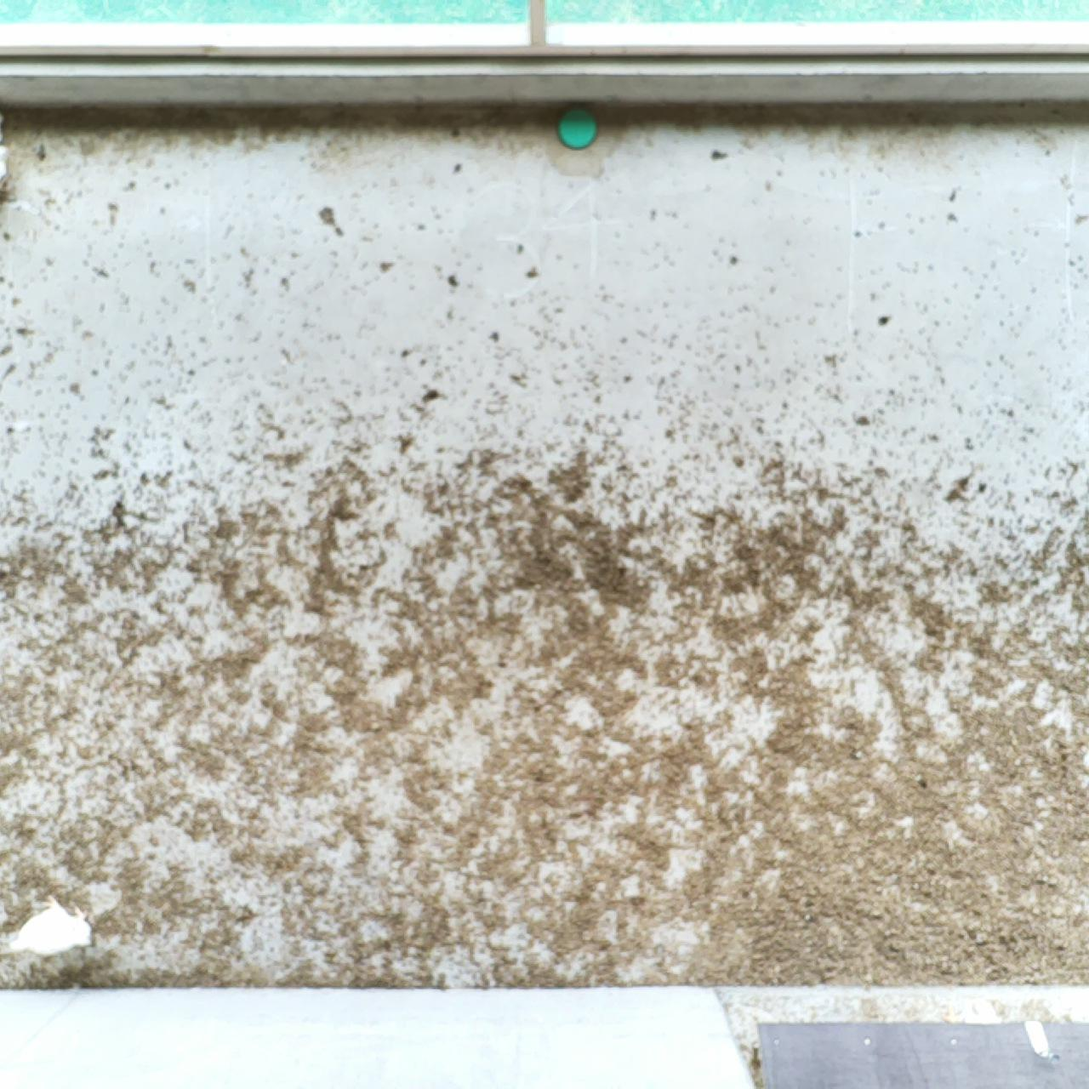chicken: (0, 884, 101, 966)
